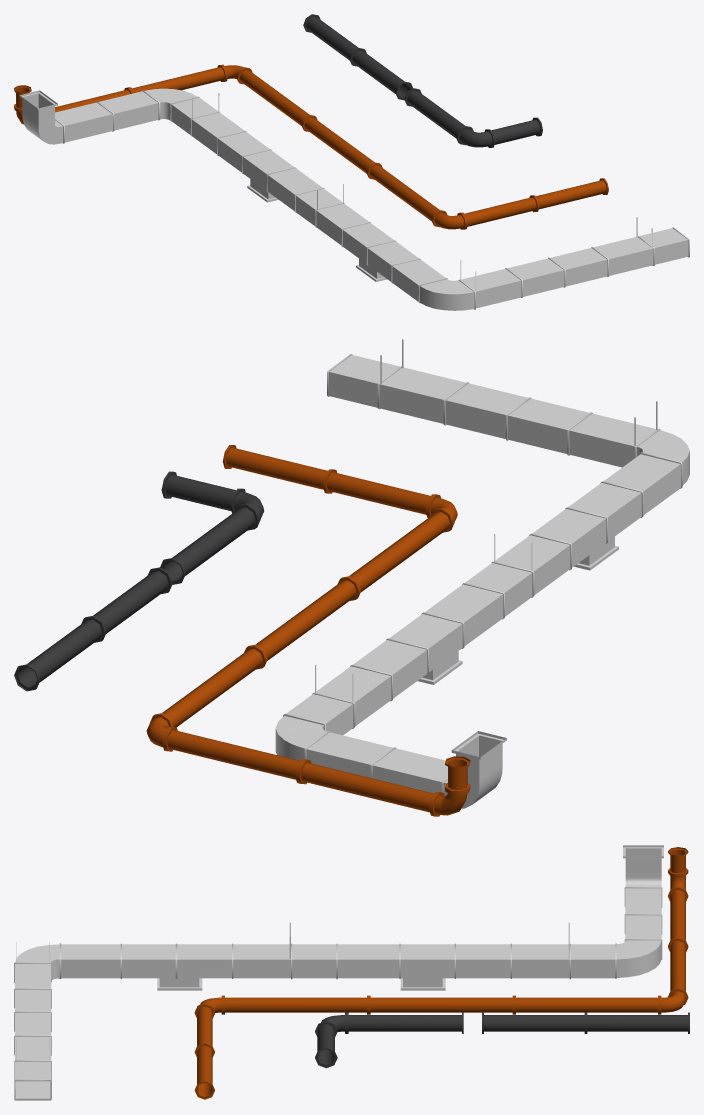
File: SM_H_Building_Tide_InterrogationRoom_03A_ATLAS.fbx
3 views of the same model, one above another, from view 1: azimuth 30°, elevation 25°; view 2: azimuth 150°, elevation 25°; view 3: azimuth 270°, elevation 25° (orthographic). The views are drawn at different scales.
Parts seen in each view (by area): view 1: SM_H_Building_Tide_InterrogationRoom_03A_ATLAS; view 2: SM_H_Building_Tide_InterrogationRoom_03A_ATLAS; view 3: SM_H_Building_Tide_InterrogationRoom_03A_ATLAS.
Part boxes in pixels (x1,y1,x2,y2): SM_H_Building_Tide_InterrogationRoom_03A_ATLAS: [14, 14, 689, 310]; SM_H_Building_Tide_InterrogationRoom_03A_ATLAS: [14, 339, 689, 816]; SM_H_Building_Tide_InterrogationRoom_03A_ATLAS: [14, 845, 689, 1100].
Size of the model in its own units: 1397 by 1922 by 186.
